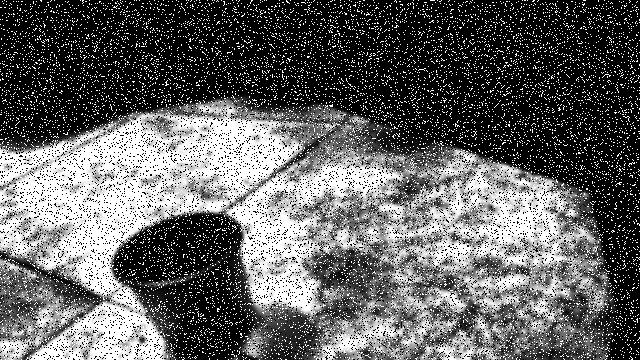pot: (112, 212, 255, 355)
